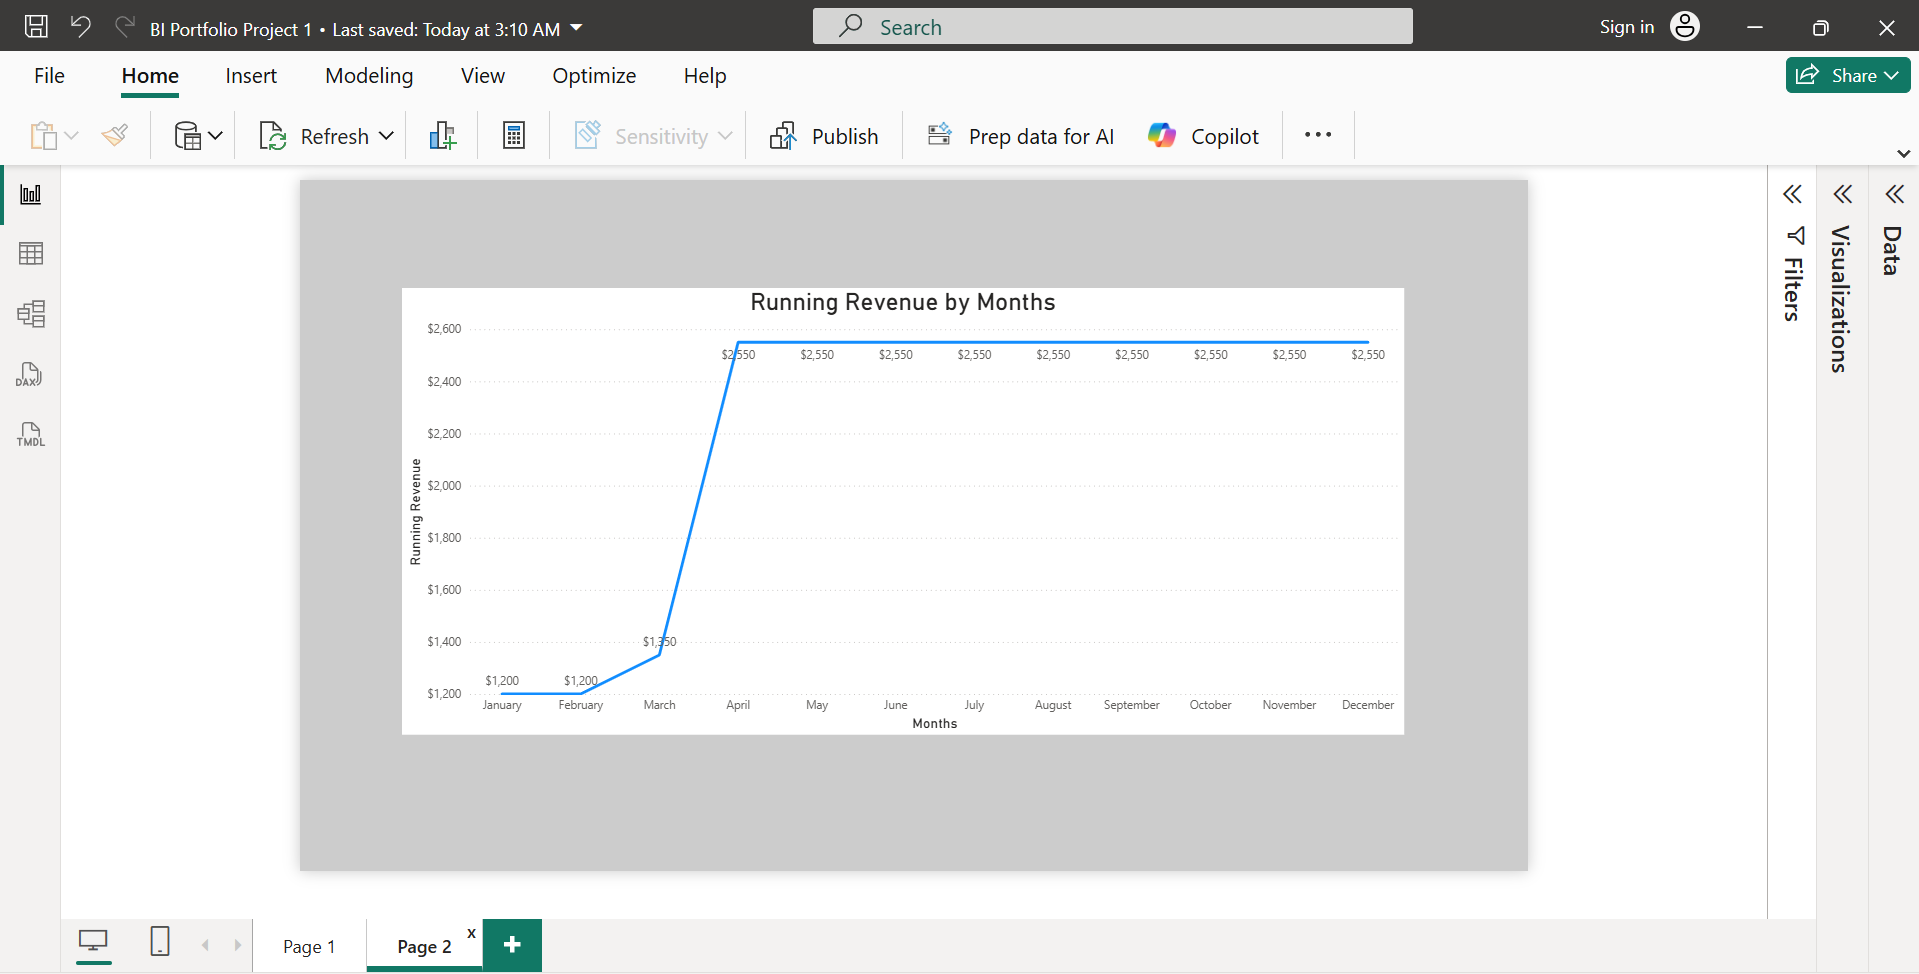

Layout of this report page (visuals, bound fields, positions):
{"tool":"powerbi","page":{"name":"Page 2","canvas":[1280,720],"ordinal":1},"visuals":[{"type":"lineChart","fields":{"Category":["Calendar.Months"],"Y":["Fact_Subscriptions.Running Revenue"]},"box":[106.2,112.5,1043.8,465.6],"z":0}]}

Visuals, with their boxes on the page's 1280x720 design canvas (x1, y1, x2, y2). These are canvas units, not pixel positions in the 1919x974 screenshot, which may show the page scaled, cropped or inside an application window:
lineChart - Calendar.Months x Fact_Subscriptions.Running Revenue: x1=106, y1=112, x2=1150, y2=578
